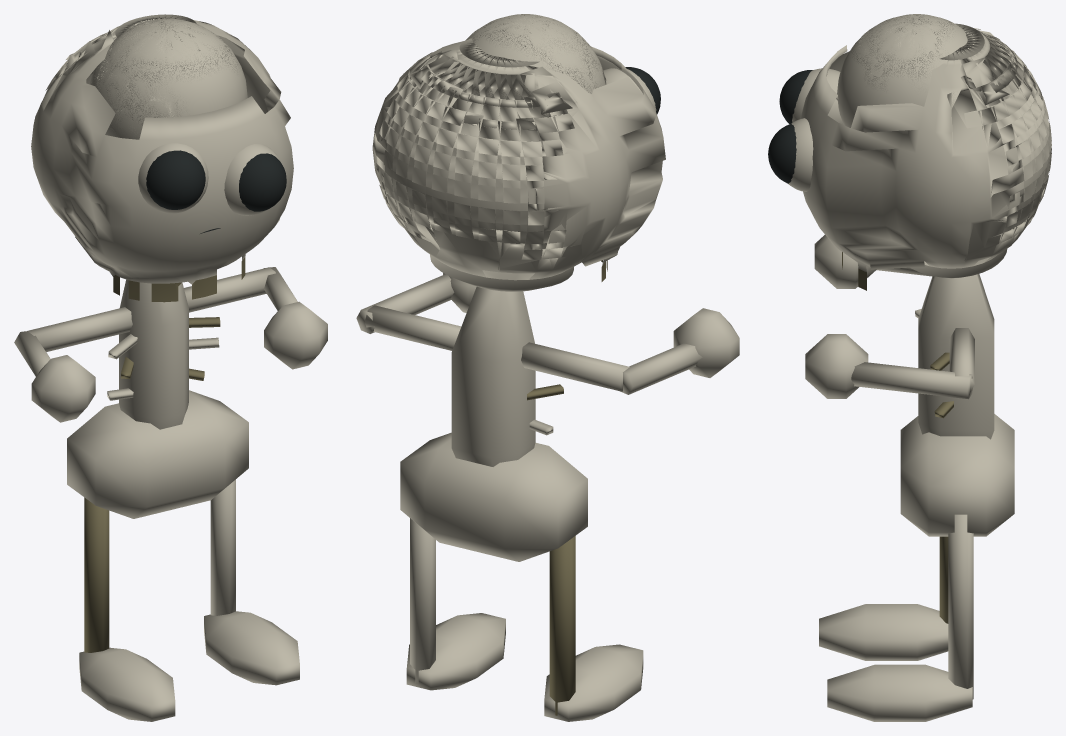
Rendered from Skeleton.glb.
3 renders of one model, left to right at view 1: azimuth 30°, elevation 25°; view 2: azimuth 150°, elevation 25°; view 3: azimuth 270°, elevation 25°, orthographic. The views are drawn at different scales.
Visible parts, largest first — view 1: Skull, Pelvis, TopSkull, Spine, Cube, Cube.001, Cylinder, Cylinder.001, Cube.002, Cube.003, RightEye, Cylinder.002 (+6 smaller); view 2: Skull, Pelvis, Spine, TopSkull, Cube.001, Cube, Cylinder, Cylinder.001, Cube.002, Cylinder.002, Cylinder.003, Cylinder.004 (+1 smaller); view 3: Skull, Pelvis, Spine, TopSkull, Cube.001, Cube, Cylinder.001, Cylinder.005, Cube.003, Cube.002, LeftEye, RightEyeSocket.001 (+4 smaller).
Part boxes in pixels (x1,y1,x2,y2): Skull: (31, 14, 293, 302); Pelvis: (67, 390, 248, 518); TopSkull: (89, 18, 247, 139); Spine: (119, 279, 188, 429); Cube: (79, 647, 175, 721); Cube.001: (204, 611, 299, 685); Cylinder: (84, 497, 109, 652); Cylinder.001: (210, 479, 235, 615); Cube.002: (31, 355, 95, 422); Cube.003: (264, 301, 327, 369); RightEye: (146, 150, 205, 209); Cylinder.002: (27, 307, 132, 351); Skull: (372, 38, 665, 291); Pelvis: (400, 432, 587, 561); Spine: (451, 286, 535, 466); TopSkull: (465, 14, 606, 93); Cube.001: (406, 613, 505, 690); Cube: (544, 644, 643, 721); Cylinder: (549, 536, 575, 715); Cylinder.001: (410, 518, 435, 683); Cube.002: (673, 308, 739, 377); Cylinder.002: (521, 342, 629, 391); Cylinder.003: (364, 305, 461, 350); Cylinder.004: (620, 343, 702, 394); Skull: (800, 23, 1051, 290); Pelvis: (900, 414, 1014, 536); Spine: (918, 274, 994, 439); TopSkull: (837, 14, 967, 127); Cube.001: (827, 664, 972, 721); Cube: (819, 604, 948, 660); Cylinder.001: (948, 514, 973, 699); Cylinder.005: (851, 362, 972, 399); Cube.003: (805, 334, 868, 398); Cube.002: (814, 235, 876, 288); LeftEye: (768, 124, 796, 183); RightEyeSocket.001: (788, 118, 813, 191).
Bounding box in the file's own units: 0.5595 × 1.15 × 0.4493.
